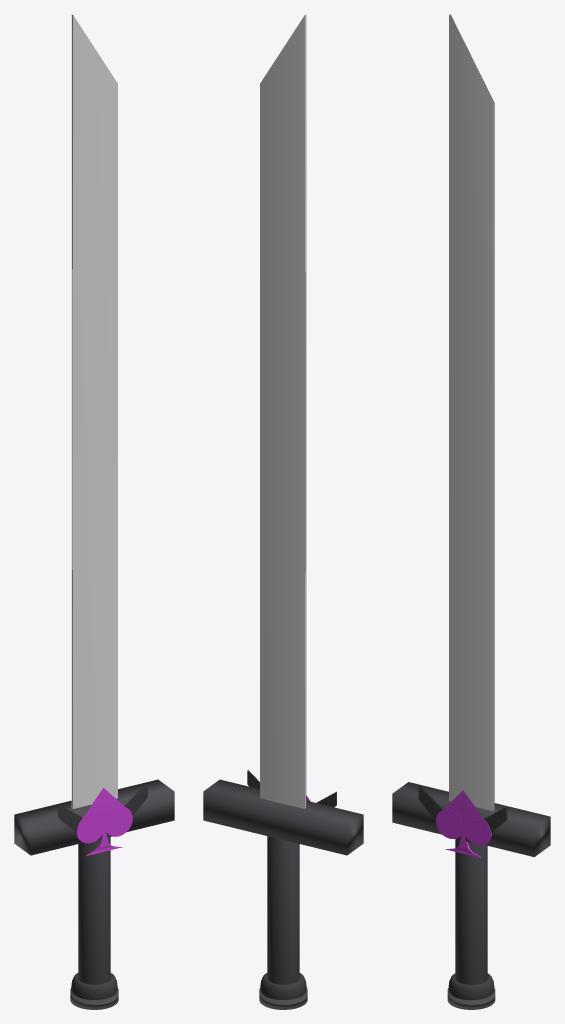
File: Sword_Black_1.fbx
The picture shows the model from 3 angles, left to right: view 1: azimuth 30°, elevation 25°; view 2: azimuth 150°, elevation 25°; view 3: azimuth 330°, elevation 25°; orthographic projection.
Visible parts, largest first — view 1: Cube, Cylinder, Cube.001, Torus, Cube.000, Cylinder.004, Cylinder.003, Cube.003, Cylinder.001; view 2: Cube, Cube.001, Cylinder, Torus, Cylinder.001; view 3: Cube, Cylinder, Cube.001, Torus, Cube.000, Cylinder.004, Cylinder.003, Cube.003, Cylinder.001.
Boxes of the visible parts, left/top/right/bottom form: Cube: left=71, top=14, right=117, bottom=808; Cylinder: left=78, top=837, right=110, bottom=984; Cube.001: left=14, top=779, right=174, bottom=855; Torus: left=71, top=973, right=117, bottom=999; Cube.000: left=58, top=783, right=147, bottom=840; Cylinder.004: left=76, top=813, right=108, bottom=843; Cylinder.003: left=105, top=806, right=132, bottom=836; Cube.003: left=84, top=788, right=125, bottom=820; Cylinder.001: left=70, top=988, right=118, bottom=1009; Cube: left=260, top=14, right=306, bottom=808; Cube.001: left=203, top=779, right=363, bottom=855; Cylinder: left=267, top=836, right=299, bottom=984; Torus: left=260, top=973, right=306, bottom=999; Cylinder.001: left=259, top=988, right=307, bottom=1009; Cube: left=449, top=14, right=494, bottom=811; Cylinder: left=455, top=839, right=487, bottom=984; Cube.001: left=392, top=782, right=550, bottom=857; Torus: left=448, top=973, right=494, bottom=1000; Cube.000: left=418, top=785, right=507, bottom=842; Cylinder.004: left=436, top=809, right=467, bottom=838; Cylinder.003: left=463, top=816, right=491, bottom=845; Cube.003: left=443, top=790, right=483, bottom=822; Cylinder.001: left=447, top=988, right=495, bottom=1009.
Bounding box in the file's own units: 136 × 898 × 39.84.
